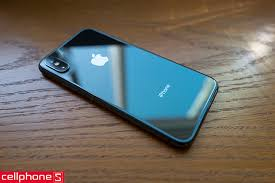iphone: (30, 23, 222, 149)
iphone10: (32, 23, 224, 149)
